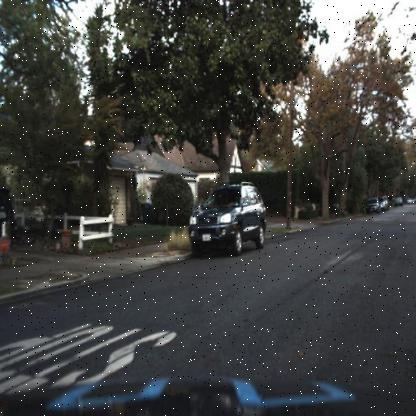car: (180, 177, 268, 263), (365, 196, 380, 218), (392, 192, 407, 210), (378, 193, 387, 213)
